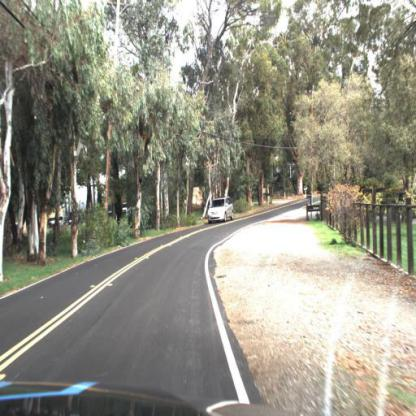car: (204, 195, 239, 229)
